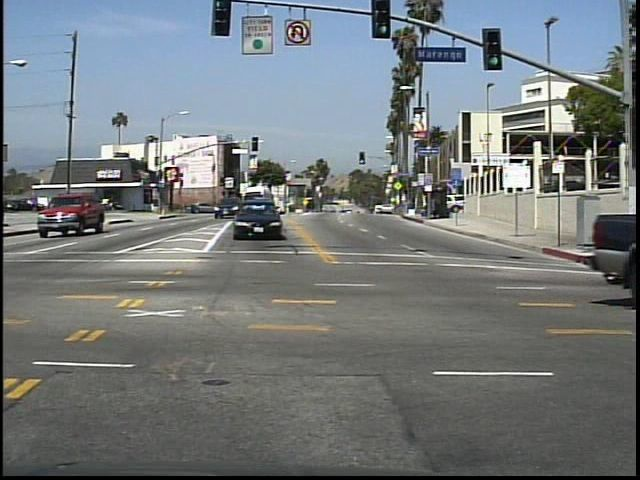person: (61, 192, 78, 220)
